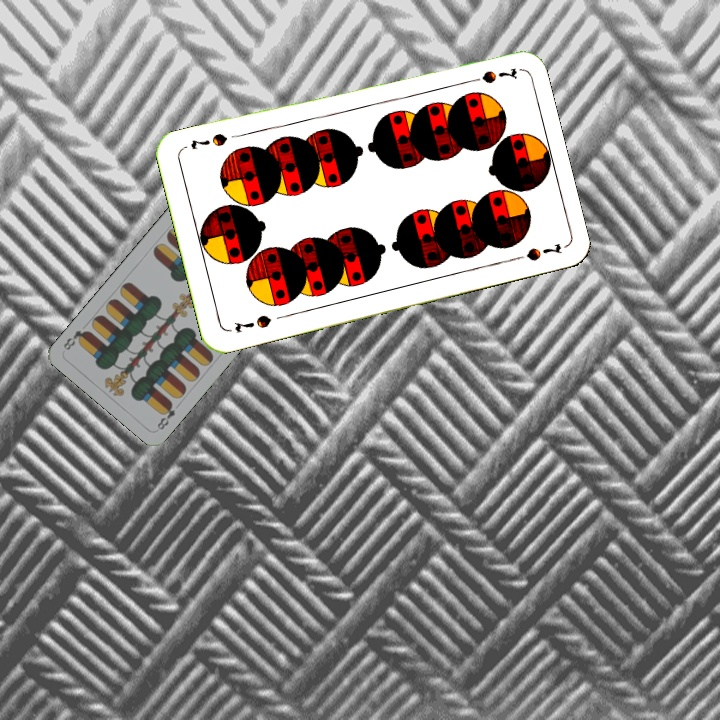E8: (153, 397, 178, 432)
S7: (462, 63, 520, 86), (230, 311, 274, 335)
